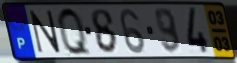4: (185, 6, 210, 56)
6: (119, 7, 148, 56)
8: (90, 7, 120, 55)
9: (154, 6, 183, 56)
N: (28, 9, 62, 55)
Q: (56, 5, 94, 58)
